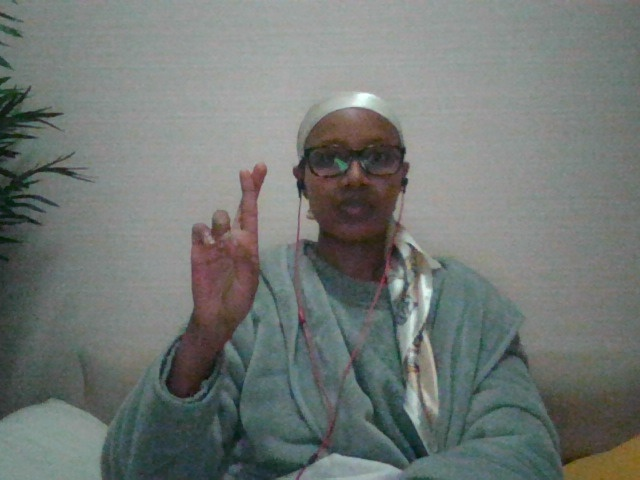goodluck: (183, 156, 274, 332)
